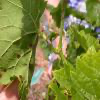grape leaf black rot: (0, 1, 44, 99), (69, 44, 99, 99)
